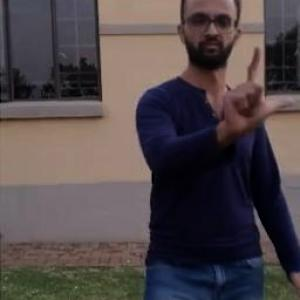land_hand: (217, 40, 295, 142)
